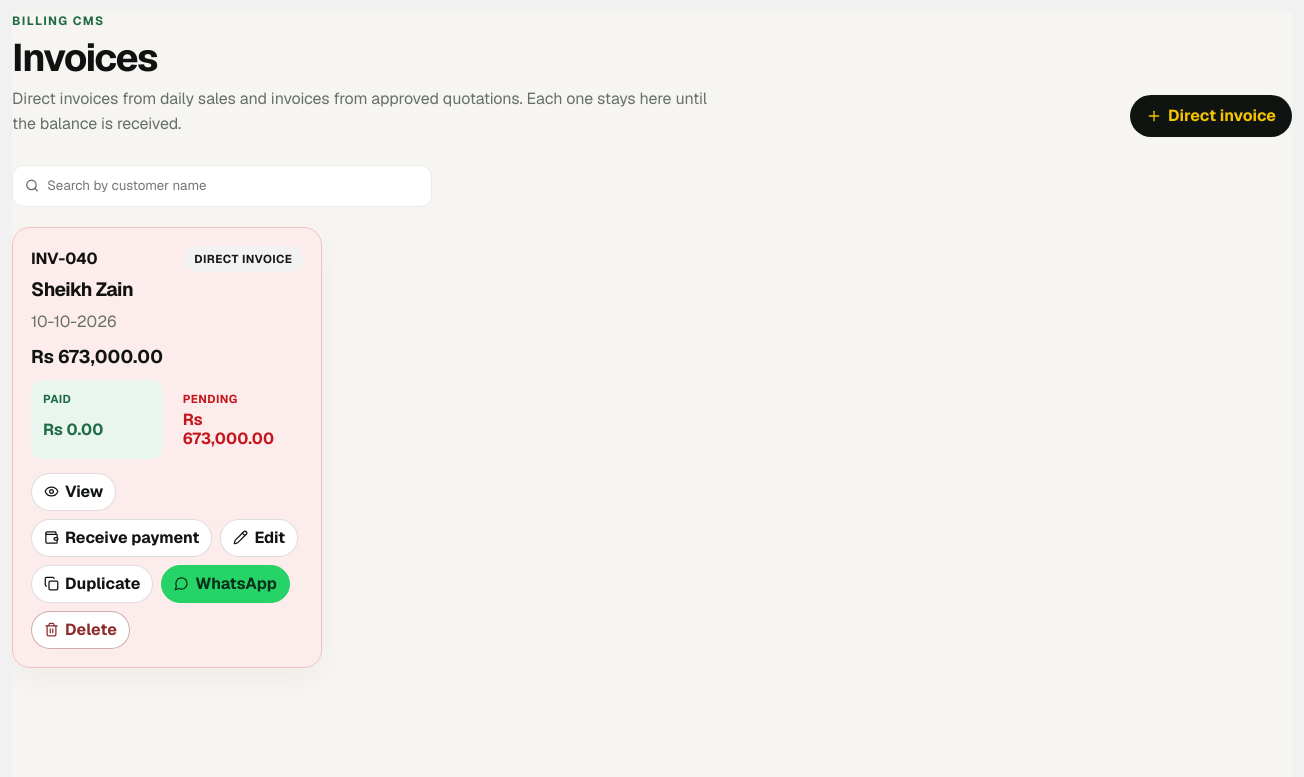
Scenario: duplicating an invoice opens a copy form so the customer can be changed
Click the button "Duplicate". click: (92, 584)
box: [31,565,153,603]
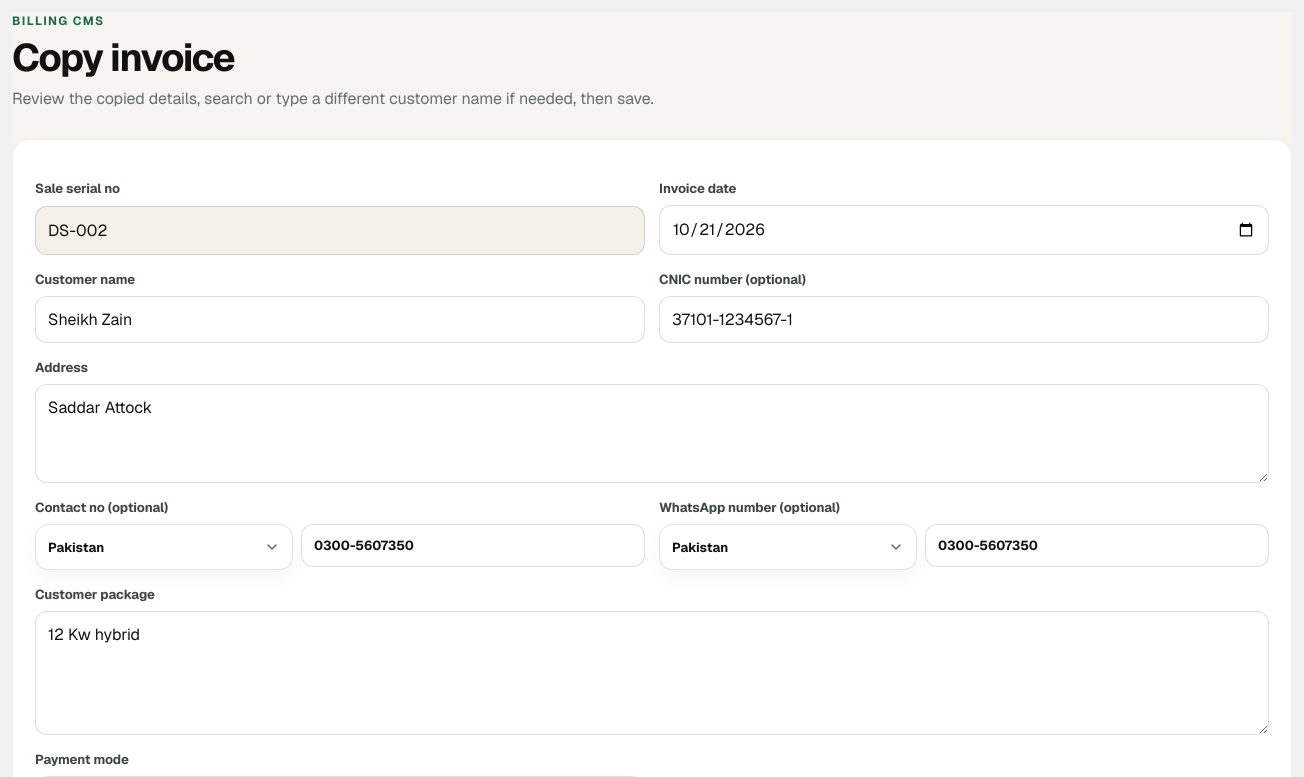
Expected: the heading "Copy invoice" is shown, [12,32,234,82]
Expected: the field labelled "Customer name" holds "Sheikh Zain", [35,296,645,343]
